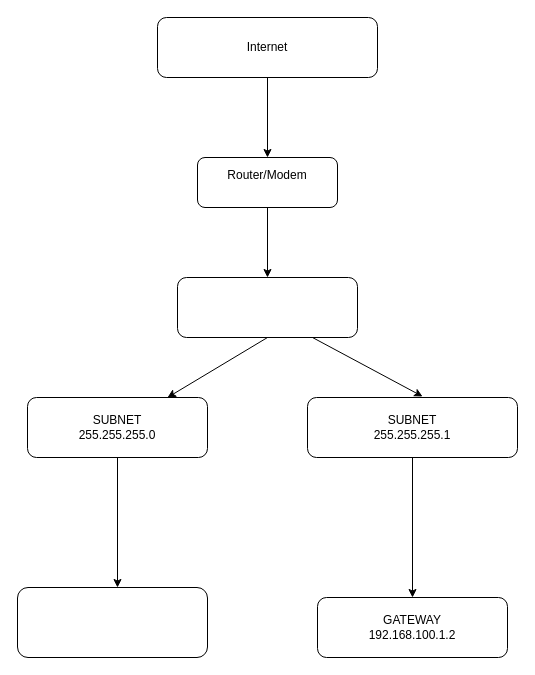
This 535x675 diagram has some shape labels left out. The shapes that lost their labels are listed below. From the top down, each one's box as (x1, y1, x2, y2) in pixels, then its label:
(176, 276, 358, 338): CIDR 192.168.1.000/24
(16, 586, 208, 658): GATEWAY 192.168.100.1.1
